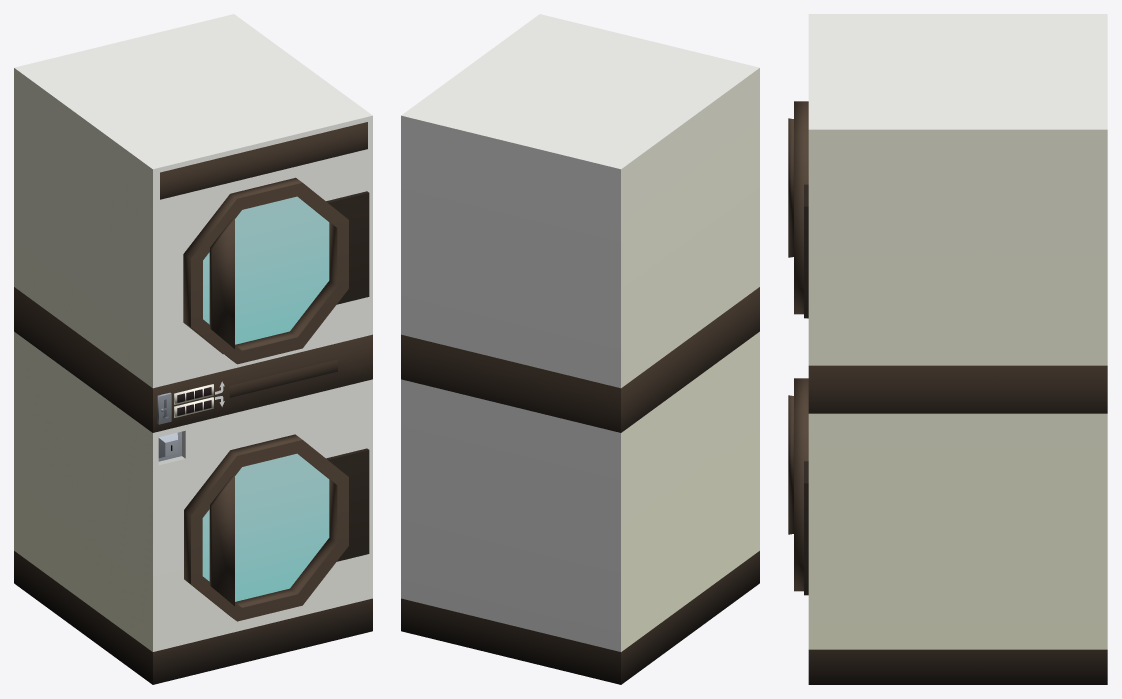
File: Dryer_M_Laundromat.fbx
3 views of the same model, side by side, from view 1: azimuth 30°, elevation 25°; view 2: azimuth 150°, elevation 25°; view 3: azimuth 270°, elevation 25° (orthographic). The views are drawn at different scales.
Parts seen in each view (by area): view 1: Dryer_M.Laundromat, Dryer_M_DoorTop.Laundromat, Dryer_M_DoorBottom.Laundromat, Dryer_M_LintScreen_0_wDryer.Laundromat, Dryer_M_CoinCollector_0.Laundromat; view 2: Dryer_M.Laundromat; view 3: Dryer_M.Laundromat, Dryer_M_DoorTop.Laundromat, Dryer_M_DoorBottom.Laundromat.
Boxes of the visible parts, left/top/right/bottom form: Dryer_M.Laundromat: left=14, top=14, right=372, bottom=684; Dryer_M_DoorTop.Laundromat: left=183, top=177, right=369, bottom=364; Dryer_M_DoorBottom.Laundromat: left=184, top=434, right=369, bottom=621; Dryer_M_LintScreen_0_wDryer.Laundromat: left=229, top=359, right=337, bottom=397; Dryer_M_CoinCollector_0.Laundromat: left=158, top=431, right=181, bottom=461; Dryer_M.Laundromat: left=401, top=14, right=759, bottom=684; Dryer_M.Laundromat: left=807, top=14, right=1107, bottom=684; Dryer_M_DoorTop.Laundromat: left=788, top=101, right=808, bottom=318; Dryer_M_DoorBottom.Laundromat: left=788, top=378, right=808, bottom=595.
Size of the model in its own units: 105 by 235 by 122.
2 materials, 2 textured.
